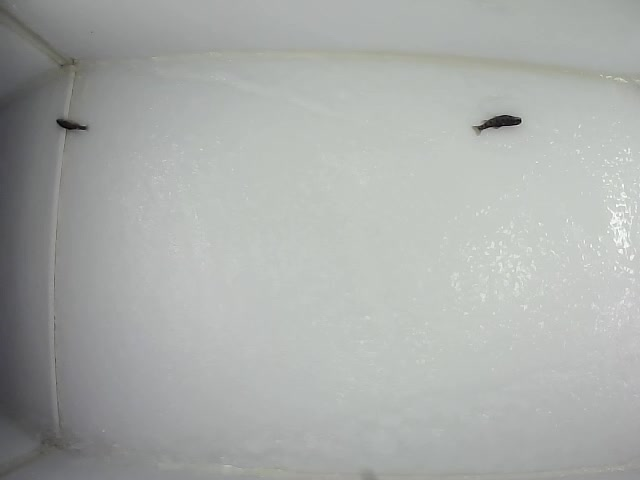fish: (470, 114, 522, 137), (51, 118, 90, 132)
